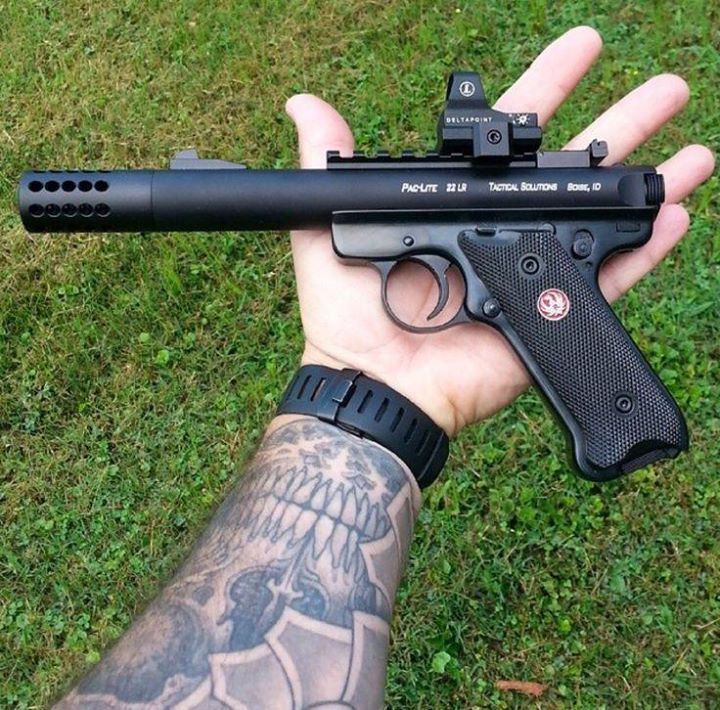gun: (12, 65, 698, 496)
